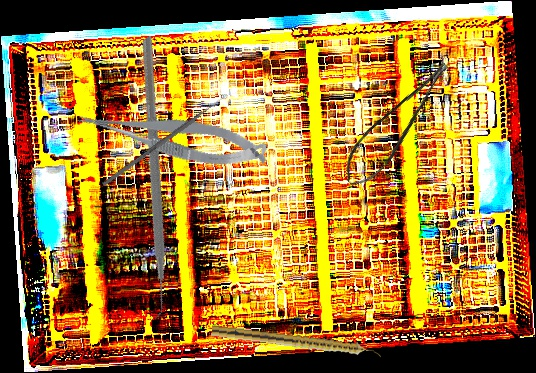Chopper: (8, 35, 285, 328)
Handpiece: (210, 324, 383, 361)
Micro Scissor: (74, 87, 272, 183), (331, 58, 469, 194)
Pusher: (101, 94, 228, 187)
